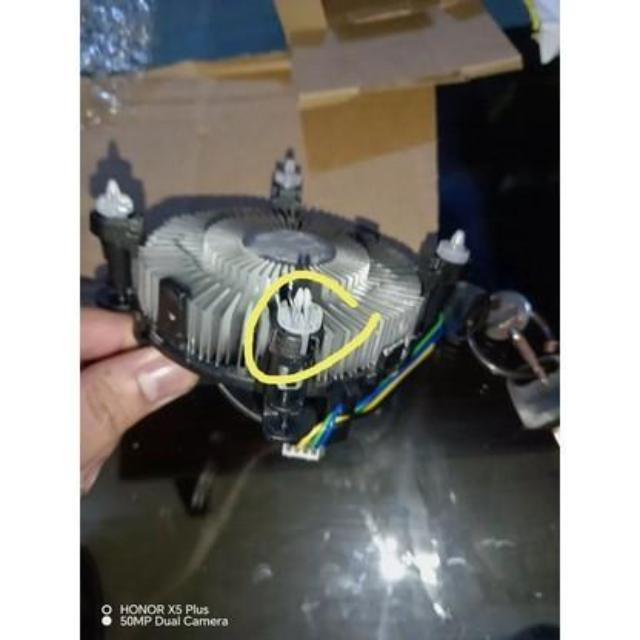CPU_Fan: (96, 168, 472, 414)
